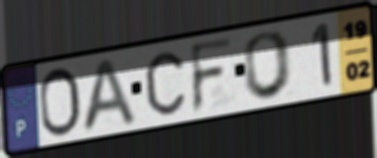1: (309, 20, 334, 89)
A: (78, 55, 140, 136)
C: (142, 49, 187, 118)
F: (188, 34, 236, 116)
O: (242, 28, 295, 103), (37, 65, 84, 141)
